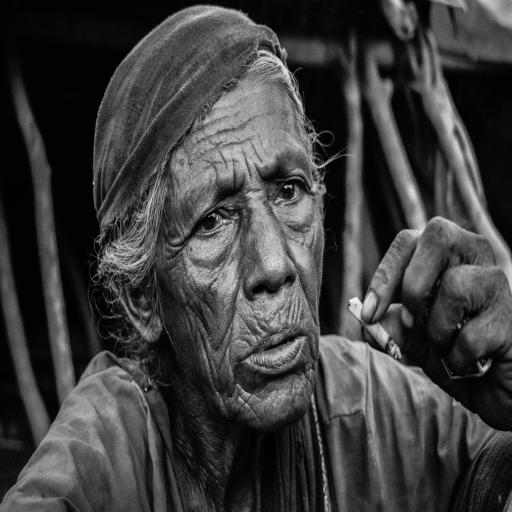terdeteksi pegang rokok: (344, 179, 452, 404)
